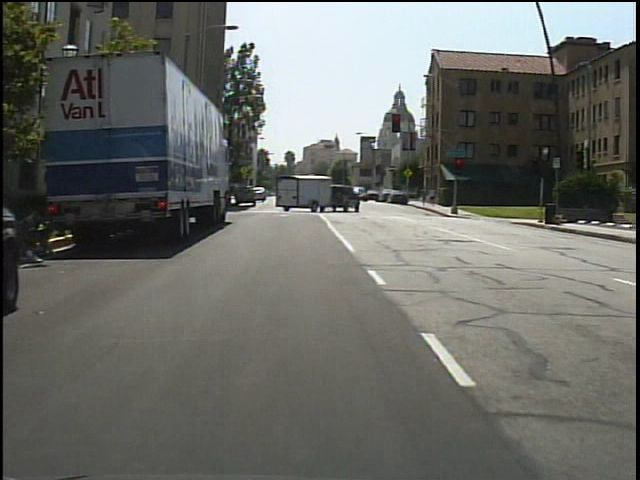person: (429, 184, 441, 210), (421, 185, 431, 208)
